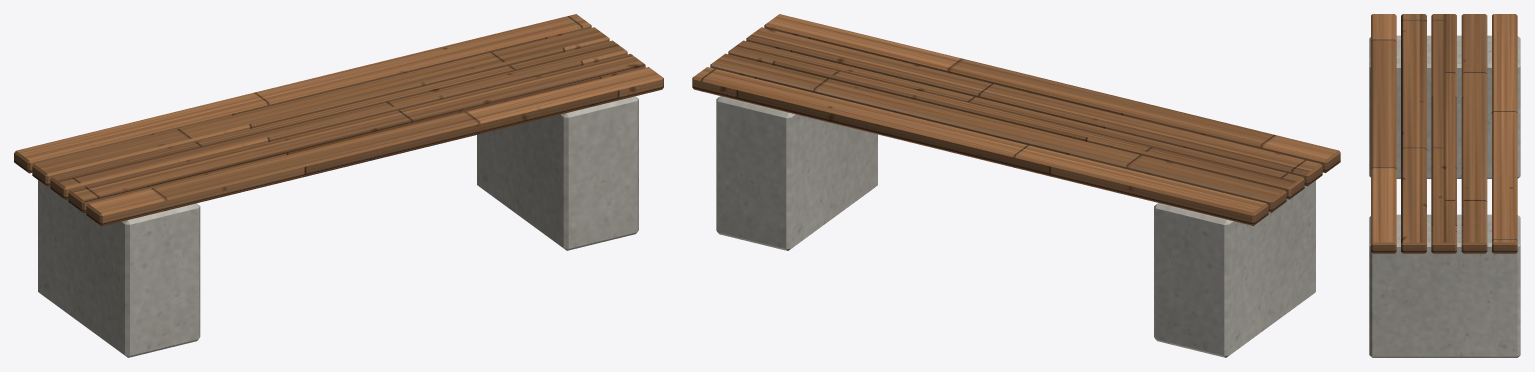
Rendered from bench.glb.
3 views of the same model, side by side, from view 1: azimuth 30°, elevation 25°; view 2: azimuth 150°, elevation 25°; view 3: azimuth 270°, elevation 25° (orthographic). The views are drawn at different scales.
Visible parts, largest first — view 1: bench_wood, bench_concrete; view 2: bench_wood, bench_concrete; view 3: bench_wood, bench_concrete.
Part boxes in pixels (<box>): bench_wood: <box>14,14,663,226</box>; bench_concrete: <box>38,96,638,357</box>; bench_wood: <box>692,14,1340,225</box>; bench_concrete: <box>716,96,1315,357</box>; bench_wood: <box>1371,14,1517,253</box>; bench_concrete: <box>1369,35,1520,357</box>.
Bounding box in the file's own units: 1.8 × 0.46 × 0.5.
Materials: 2 (2 with a texture image).
